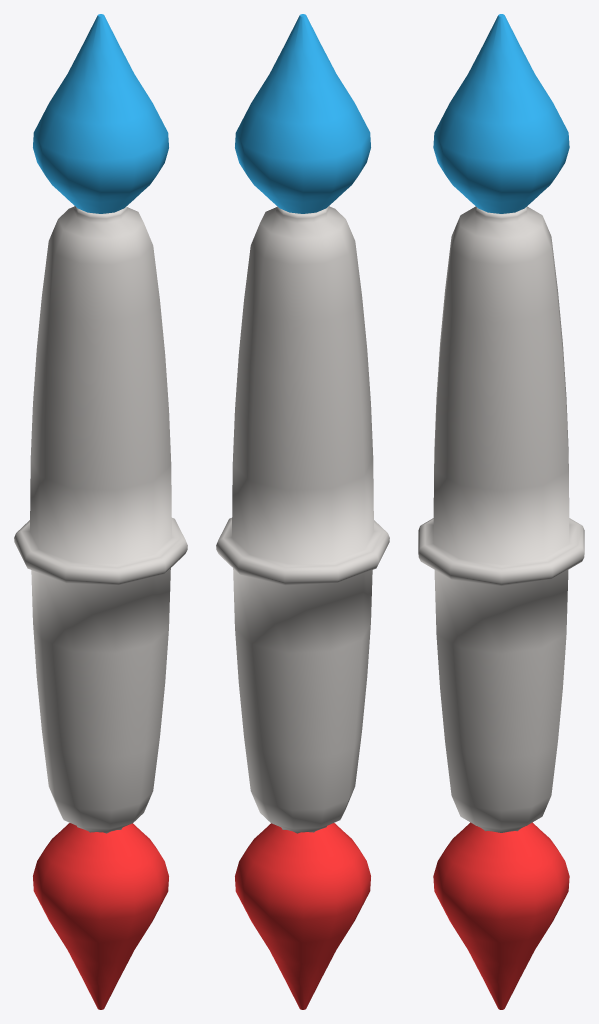
File: Pencil.fbx
The picture shows the model from 3 angles, left to right: view 1: azimuth 30°, elevation 25°; view 2: azimuth 150°, elevation 25°; view 3: azimuth 270°, elevation 25°; orthographic projection.
Parts seen in each view (by area): view 1: Firca; view 2: Firca; view 3: Firca.
Part boxes in pixels (x1=…): Firca: x1=14, y1=14, x2=187, y2=1009; Firca: x1=216, y1=14, x2=389, y2=1009; Firca: x1=418, y1=14, x2=584, y2=1009.
Bounding box in the file's own units: 52.04 × 326 × 49.49.
